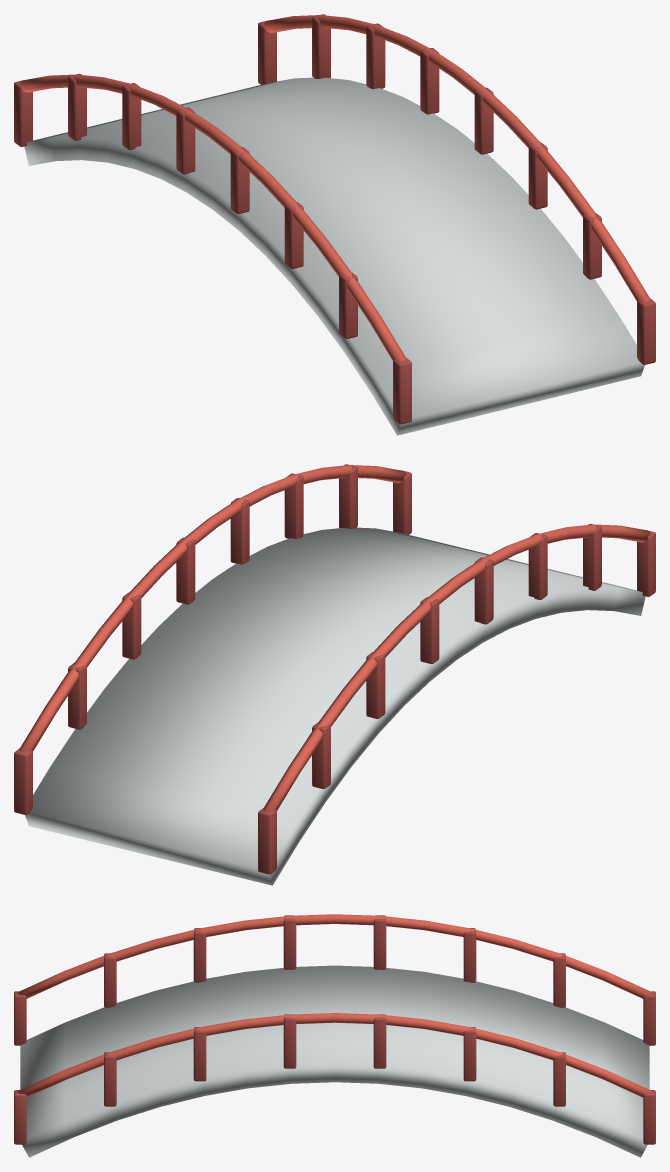
File: bridge.glb
3 renders of one model, top to bottom at view 1: azimuth 30°, elevation 25°; view 2: azimuth 150°, elevation 25°; view 3: azimuth 270°, elevation 25°, orthographic. The views are drawn at different scales.
Visible parts, largest first — view 1: Deck, Rail.001, Rail, Post, Post.008, Post.005, Post.013, Post.004, Post.012, Post.011, Post.003, Post.002 (+7 smaller); view 2: Deck, Rail.001, Rail, Post.007, Post.015, Post.002, Post.010, Post.003, Post.011, Post.012, Post.004, Post.005 (+7 smaller); view 3: Deck, Rail, Rail.001, Post.003, Post.004, Post.011, Post.012, Post.010, Post.013, Post.002, Post.005, Post.008 (+7 smaller).
Part boxes in pixels (bbox=[...]): Deck: bbox=[24, 77, 644, 435]; Rail.001: bbox=[263, 15, 650, 302]; Rail: bbox=[19, 74, 406, 361]; Post: bbox=[393, 358, 411, 424]; Post.008: bbox=[637, 298, 655, 364]; Post.005: bbox=[122, 83, 141, 149]; Post.013: bbox=[366, 23, 385, 89]; Post.004: bbox=[176, 107, 195, 174]; Post.012: bbox=[420, 48, 439, 114]; Post.011: bbox=[474, 87, 493, 154]; Post.003: bbox=[230, 147, 249, 213]; Post.002: bbox=[284, 202, 303, 268]; Deck: bbox=[25, 527, 645, 885]; Rail.001: bbox=[19, 465, 406, 752]; Rail: bbox=[263, 524, 650, 811]; Post.007: bbox=[258, 808, 276, 874]; Post.015: bbox=[14, 748, 32, 814]; Post.002: bbox=[528, 533, 547, 599]; Post.010: bbox=[284, 473, 303, 539]; Post.003: bbox=[474, 557, 493, 624]; Post.011: bbox=[230, 498, 249, 564]; Post.012: bbox=[176, 537, 195, 604]; Post.004: bbox=[420, 597, 439, 663]; Post.005: bbox=[366, 652, 385, 718]; Deck: bbox=[20, 965, 649, 1157]; Rail: bbox=[18, 914, 651, 998]; Rail.001: bbox=[18, 1013, 651, 1097]; Post.003: bbox=[283, 915, 296, 969]; Post.004: bbox=[373, 915, 386, 969]; Post.011: bbox=[283, 1014, 296, 1068]; Post.012: bbox=[373, 1014, 386, 1068]; Post.010: bbox=[193, 1027, 206, 1081]; Post.013: bbox=[463, 1027, 476, 1081]; Post.002: bbox=[193, 928, 206, 982]; Post.005: bbox=[463, 928, 476, 982]; Post.008: bbox=[14, 1090, 26, 1144].
Bounding box in the file's own units: 2.74 × 1.78 × 7.14.
